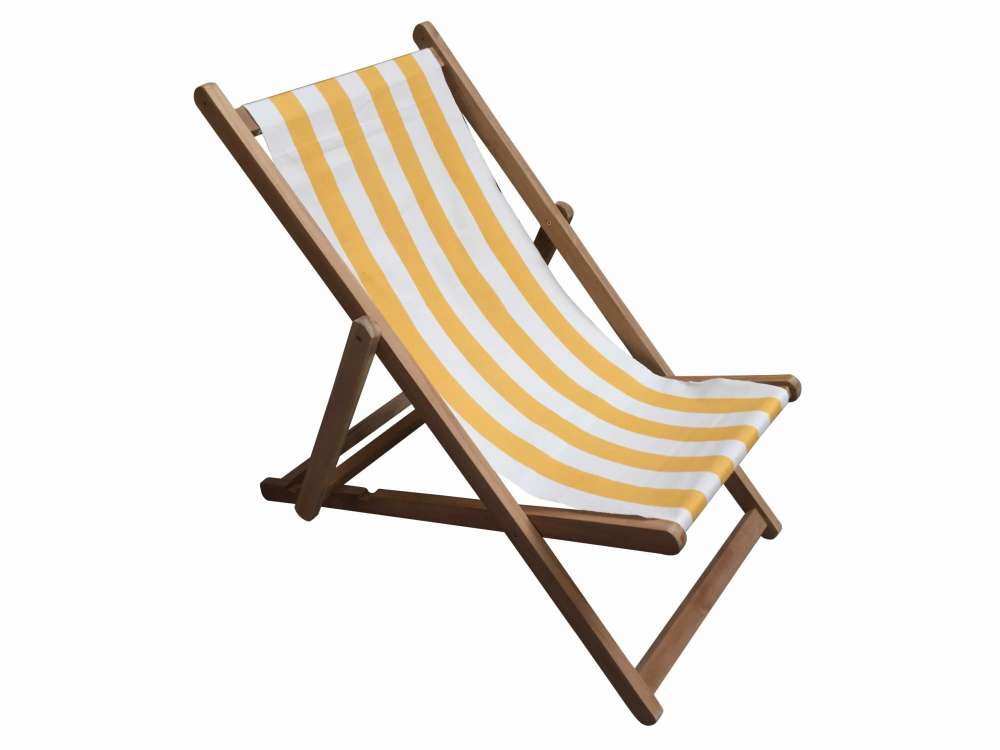chairs: (189, 20, 805, 728)
